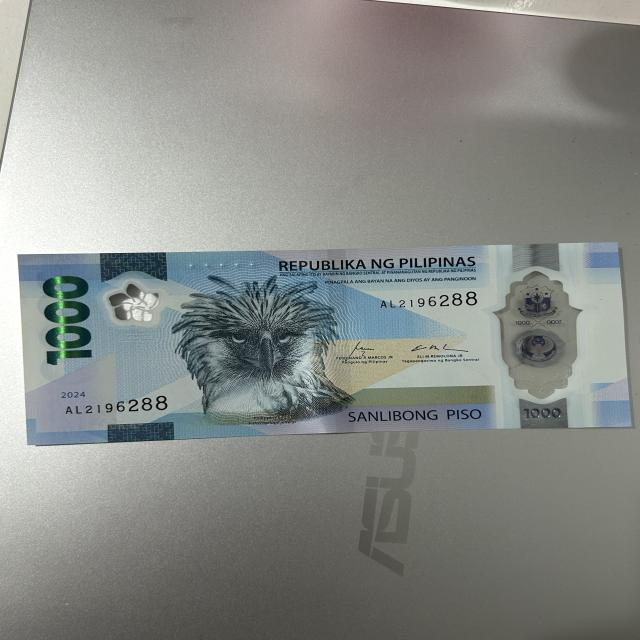clear_window: (494, 270, 583, 408)
eagle: (178, 276, 337, 413)
sampaguita: (108, 285, 164, 328)
